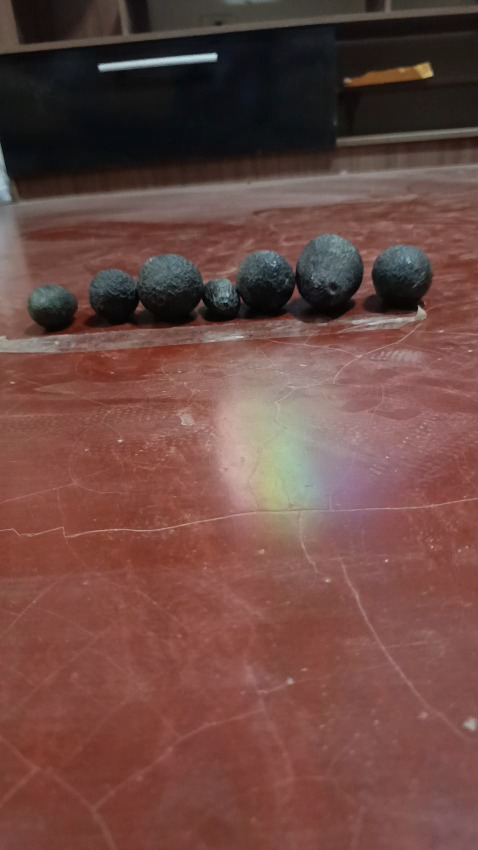Primera: (295, 233, 364, 310), (137, 253, 203, 322)
Segunda: (371, 244, 432, 308), (235, 250, 295, 313), (89, 268, 139, 323)
Tercera: (27, 283, 77, 330), (201, 278, 240, 319)
